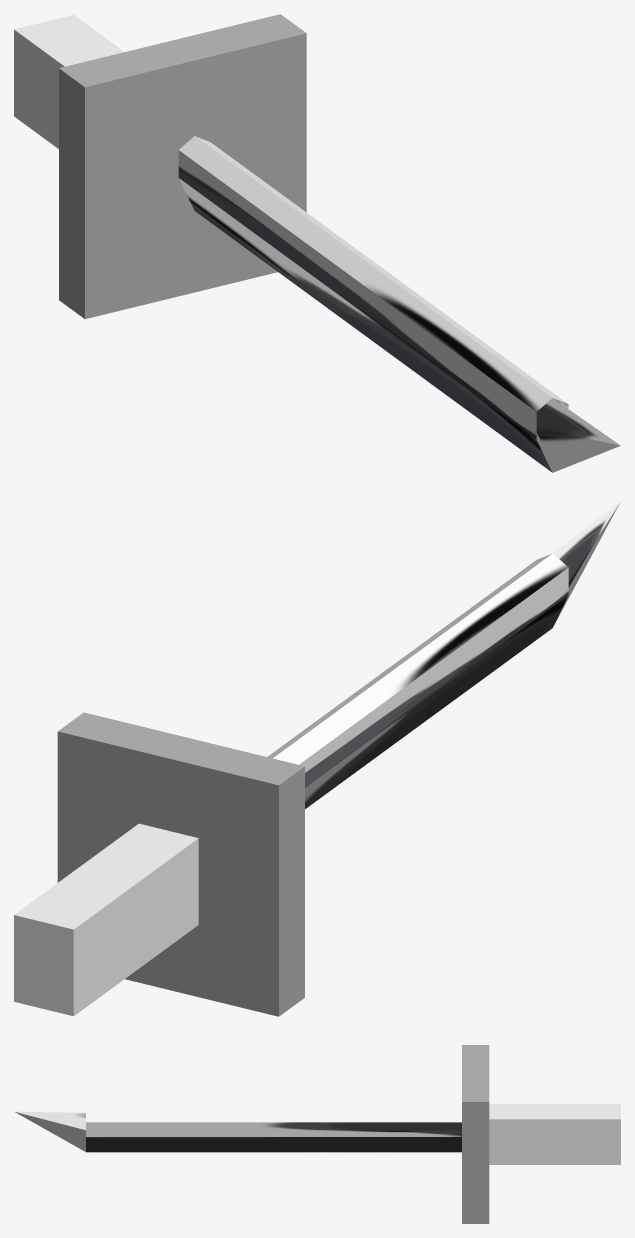
File: Weapon.obj
3 renders of one model, top to bottom at view 1: azimuth 30°, elevation 25°; view 2: azimuth 150°, elevation 25°; view 3: azimuth 270°, elevation 25°, orthographic. The views are drawn at different scales.
Parts seen in each view (by area): view 1: Cube; view 2: Cube; view 3: Cube.
Part boxes in pixels (x1,y1,x2,y2): Cube: (14, 14, 620, 472); Cube: (14, 501, 620, 1016); Cube: (14, 1045, 620, 1223).
Size of the model in its own units: 0.352 by 0.352 by 1.59.
1 material, 1 textured.
